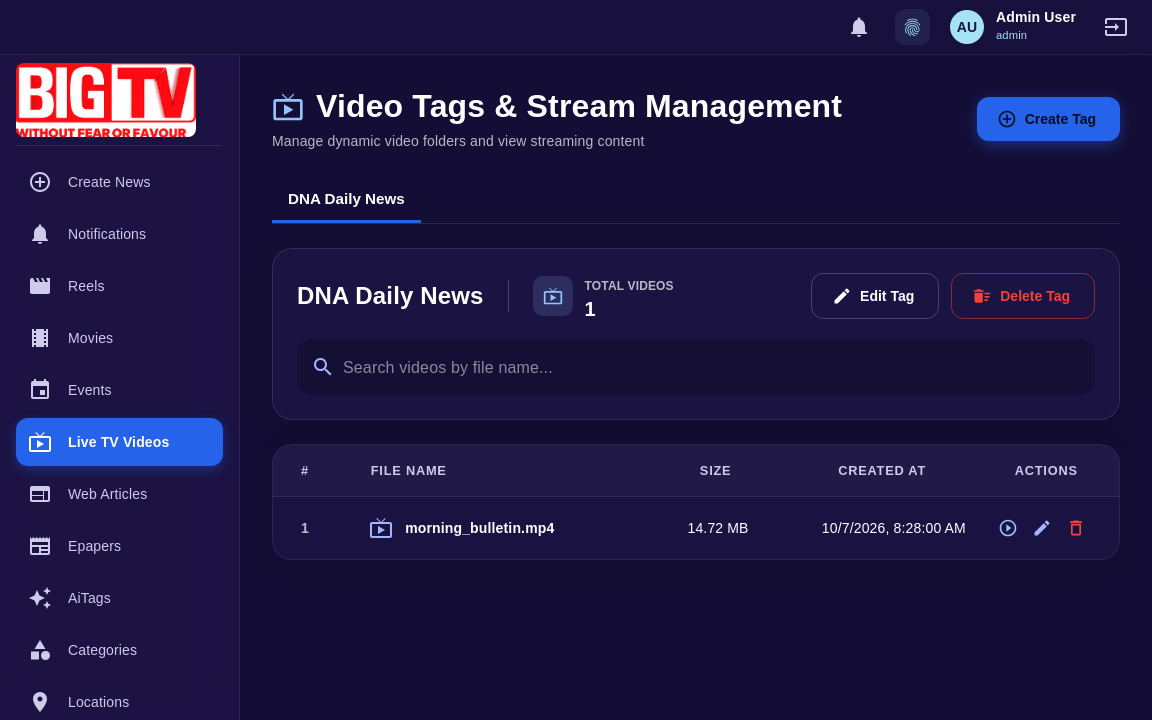
Test case: LiveTvVideos Module - Folder-Based Video Tags Integration › opens create tag modal and saves new tag
expect the element with test id "livetv-videos-table" is shown: met, box [272,444,1120,560]
Click the button "Create Tag" at (1048, 119), box [977,97,1120,141]
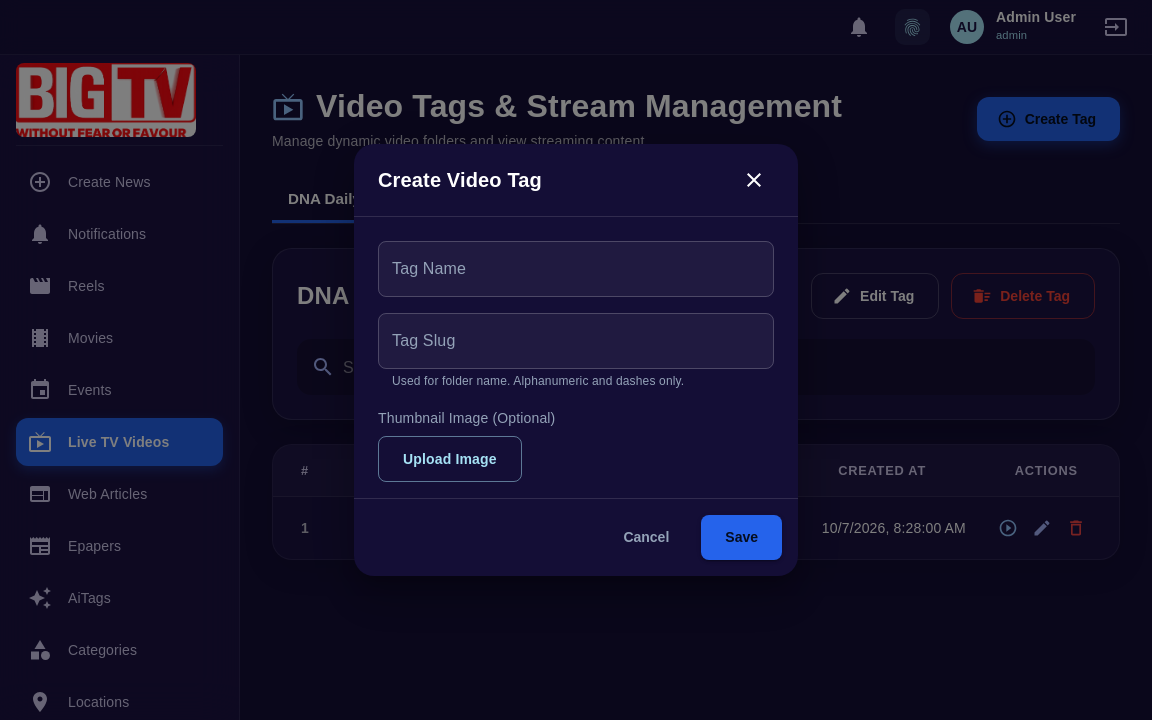
expect the text "Create Video Tag" is shown: met, box [378,164,542,196]
Type "New Test Tag" into the field labelled "Tag Name" at (576, 269), box [378,241,774,297]
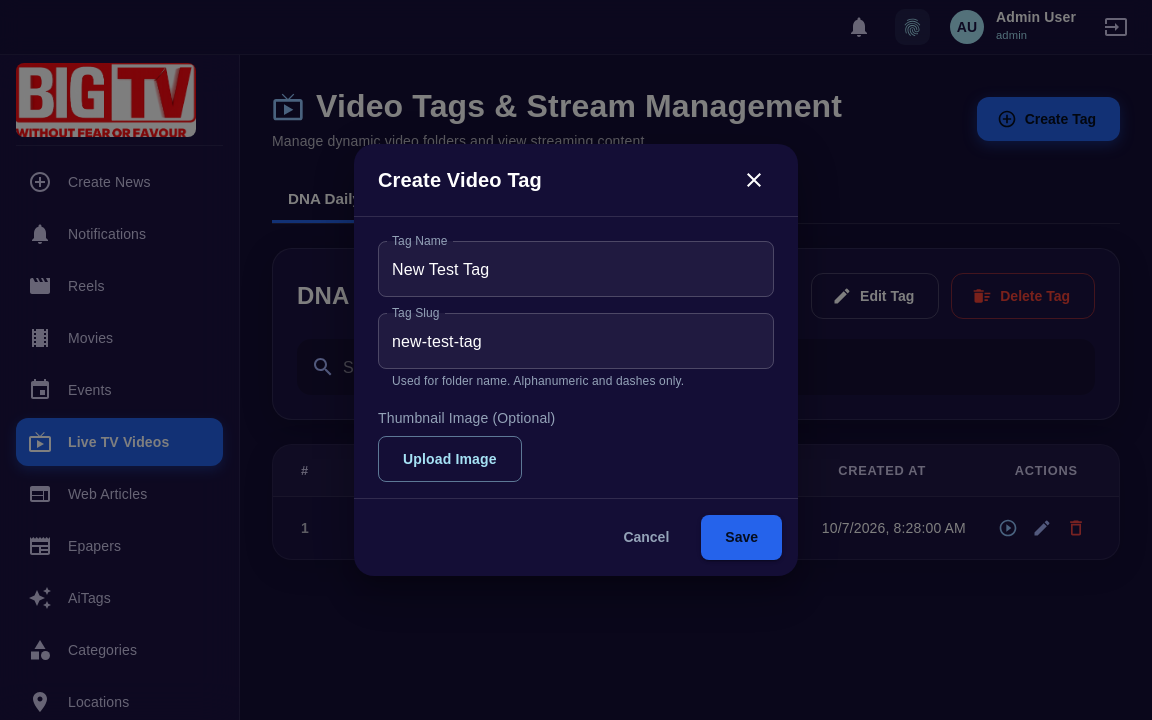
Click the button "Save" at (742, 538), box [701,516,782,560]
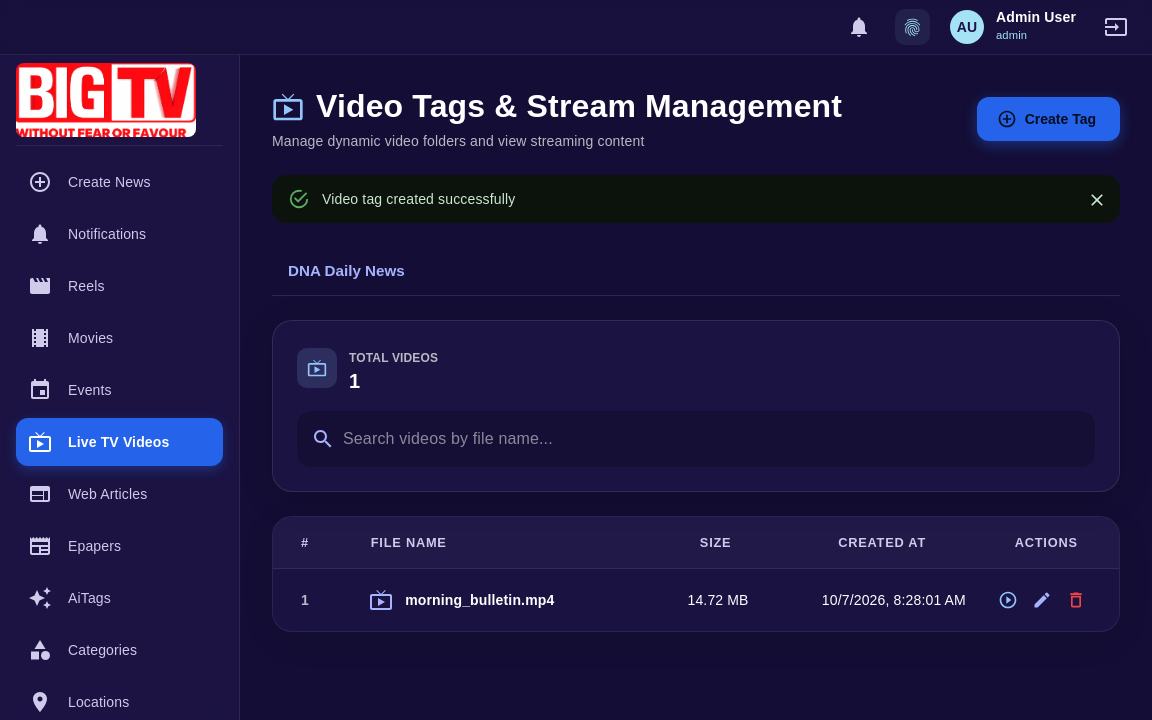
expect the text "Video tag created successfully" is shown: met, box [322,190,515,206]
